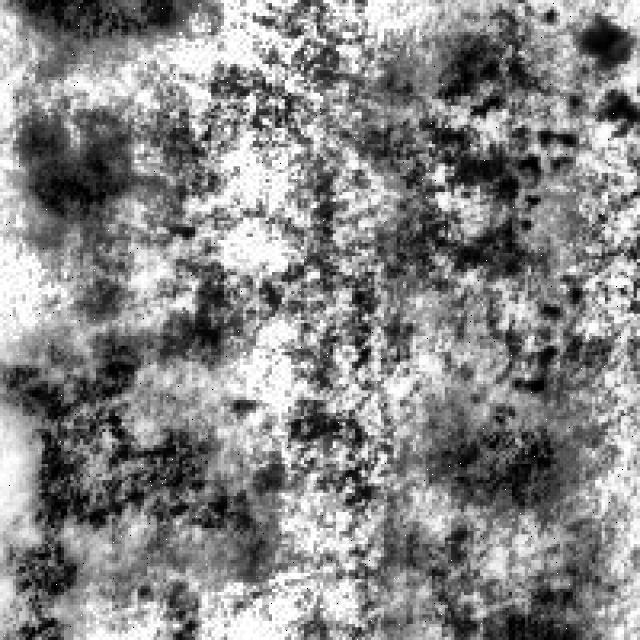Patches: (560, 6, 634, 128)
Scratches: (0, 310, 266, 621), (364, 3, 566, 307), (416, 388, 579, 518), (458, 528, 598, 634), (12, 115, 138, 224), (6, 0, 189, 51)
